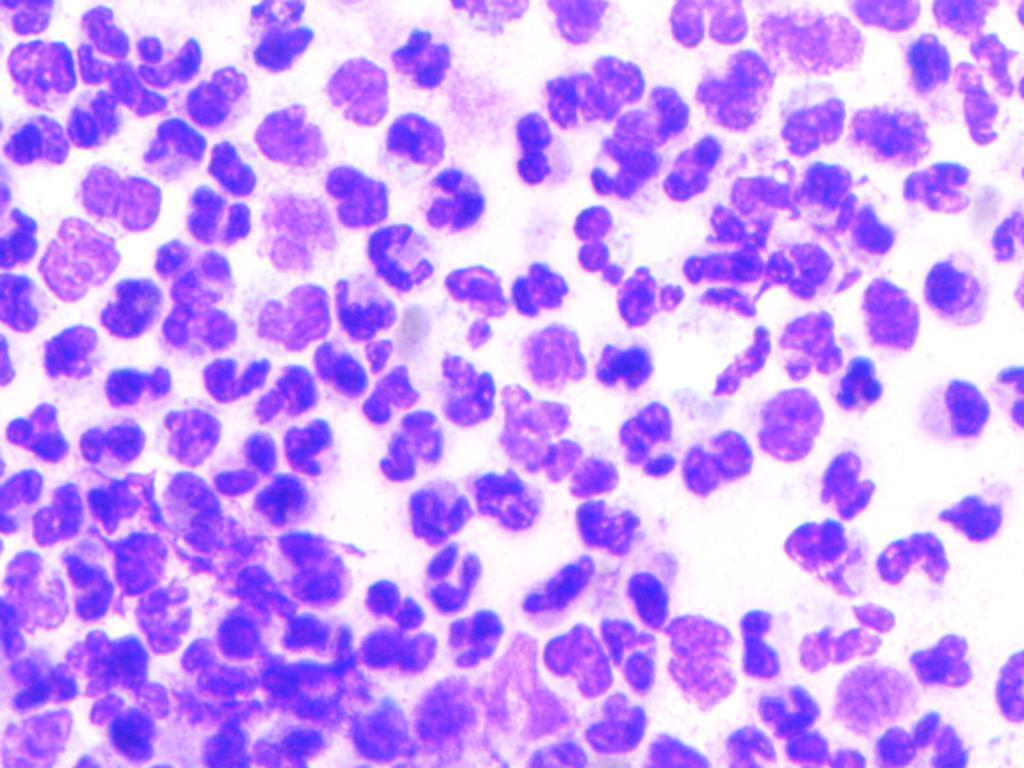epithelial: (497, 378, 587, 489), (661, 610, 744, 710), (751, 8, 872, 74), (255, 187, 340, 280), (40, 218, 120, 306), (827, 666, 913, 739), (240, 282, 333, 347), (848, 103, 936, 169), (755, 386, 822, 471), (319, 53, 390, 130), (517, 316, 586, 395), (857, 275, 922, 347), (114, 170, 163, 232), (715, 416, 753, 494), (676, 444, 717, 512)
neutrophil: (530, 48, 647, 142), (210, 430, 316, 530), (773, 509, 878, 604), (51, 626, 166, 712), (270, 607, 358, 710), (682, 35, 773, 131), (155, 468, 240, 568), (603, 392, 687, 493), (956, 24, 1024, 147), (368, 18, 470, 98), (774, 86, 862, 176), (2, 470, 93, 557), (390, 471, 492, 548), (81, 698, 193, 768), (750, 681, 840, 768), (754, 229, 847, 313), (680, 226, 771, 311), (637, 127, 736, 205), (763, 310, 852, 395), (570, 486, 670, 561), (914, 472, 1024, 540), (162, 53, 272, 120), (569, 135, 662, 214), (606, 81, 706, 153), (573, 308, 669, 383), (807, 439, 892, 523), (493, 103, 574, 191), (268, 411, 351, 496), (45, 545, 132, 626), (426, 345, 501, 438), (281, 525, 367, 606), (245, 99, 335, 176), (5, 635, 82, 725), (436, 596, 516, 682), (364, 215, 443, 302), (617, 541, 699, 624), (349, 355, 433, 435), (314, 154, 401, 231), (349, 621, 448, 688), (595, 614, 670, 702), (891, 153, 993, 217), (919, 245, 994, 332), (723, 595, 803, 676), (377, 104, 457, 184), (867, 528, 961, 595), (180, 176, 258, 256), (126, 580, 206, 658), (872, 709, 976, 768), (574, 684, 665, 751), (146, 236, 234, 305), (826, 193, 911, 264), (474, 462, 550, 540), (525, 550, 603, 626), (68, 410, 152, 480), (334, 695, 416, 766), (76, 470, 164, 536), (99, 262, 168, 346), (412, 539, 489, 613), (905, 617, 975, 697), (206, 595, 277, 672), (50, 83, 134, 148), (913, 374, 992, 443), (254, 352, 324, 429), (145, 115, 212, 195), (820, 342, 887, 422), (126, 28, 213, 89), (434, 257, 512, 324), (9, 31, 76, 109), (186, 351, 272, 411), (498, 254, 577, 319), (414, 163, 489, 231), (160, 299, 238, 364), (86, 358, 174, 415), (892, 26, 958, 102), (364, 570, 437, 638), (375, 405, 441, 480), (106, 525, 173, 598), (612, 261, 686, 326), (0, 398, 76, 461), (328, 267, 388, 345), (157, 405, 229, 470), (200, 131, 266, 201), (1, 113, 79, 172), (71, 1, 139, 67), (664, 1, 753, 51), (973, 351, 1024, 435), (556, 208, 618, 276), (787, 162, 854, 223), (205, 705, 268, 768), (36, 326, 104, 383), (982, 191, 1024, 282), (987, 635, 1024, 738), (264, 718, 336, 768), (710, 725, 793, 768), (315, 344, 372, 404), (633, 727, 713, 768), (3, 0, 53, 40)
